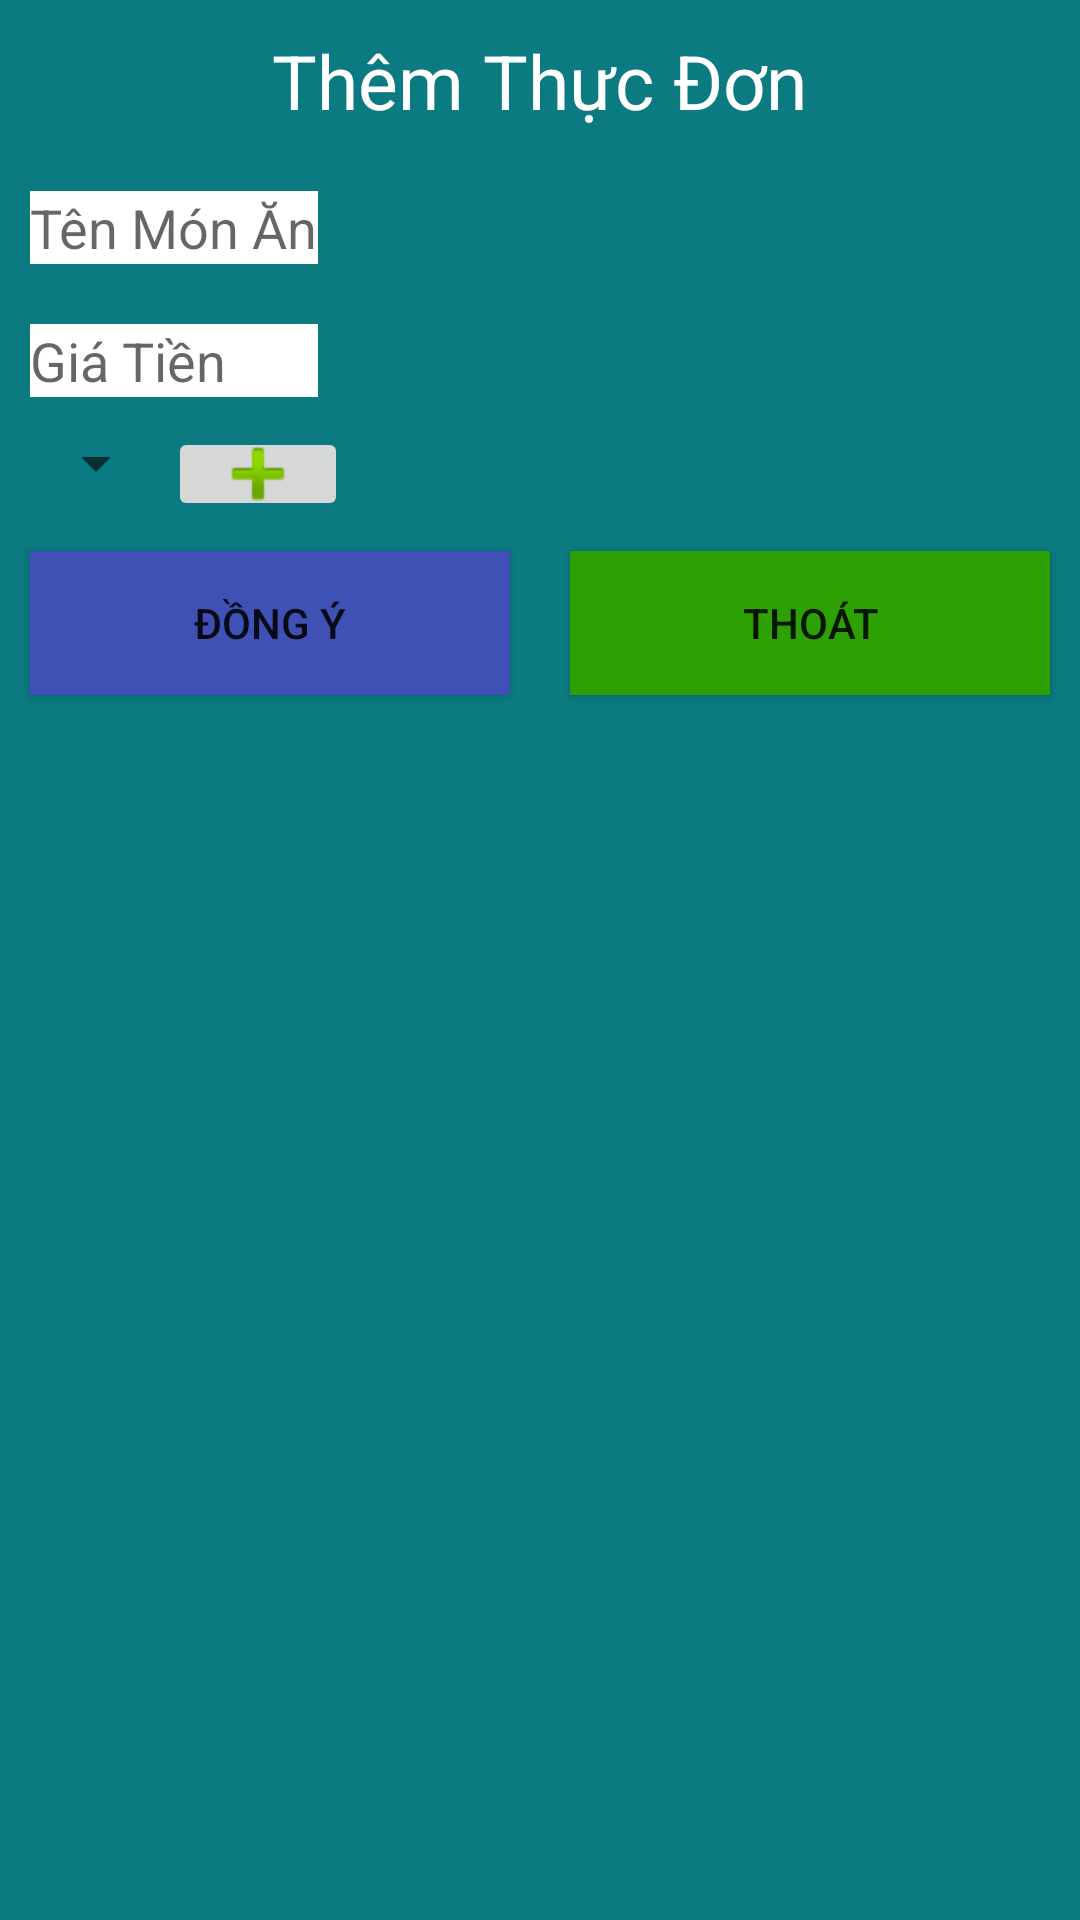

Icon click points for this 1080w x 1920h phone screenshot, format (x=x, y=y):
add: (x=258, y=474)
